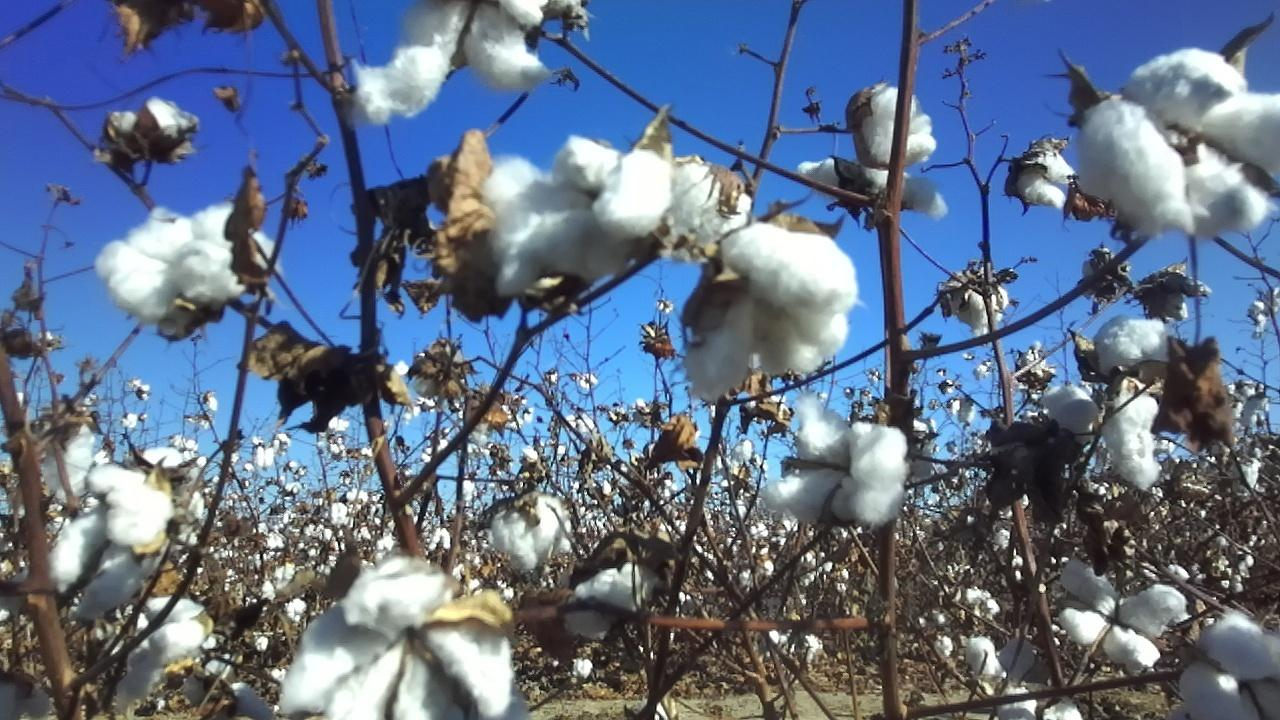cotton_ready: (279, 557, 520, 720), (1074, 50, 1280, 237), (681, 224, 859, 401), (347, 0, 547, 129), (515, 137, 672, 284), (95, 207, 275, 330), (797, 86, 949, 219), (764, 397, 909, 530), (52, 465, 174, 618), (1054, 561, 1185, 675), (485, 158, 568, 294), (1182, 617, 1280, 720), (123, 599, 212, 699), (489, 492, 577, 574), (564, 564, 654, 643), (672, 162, 752, 245), (933, 590, 1005, 680), (183, 657, 280, 720), (1106, 389, 1160, 490), (1104, 315, 1184, 374), (40, 415, 94, 502), (107, 101, 189, 155), (1012, 149, 1076, 213), (997, 687, 1092, 720), (1045, 382, 1098, 434)
